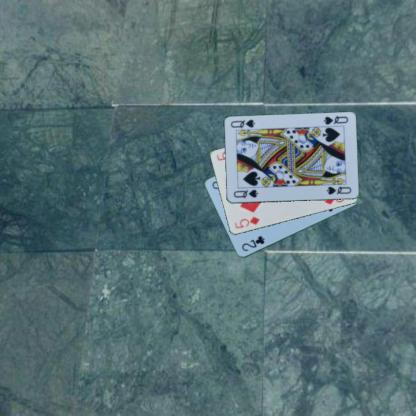2c: (239, 234, 266, 252)
5d: (232, 214, 260, 230)
Qs: (320, 113, 350, 126), (232, 188, 258, 200)
